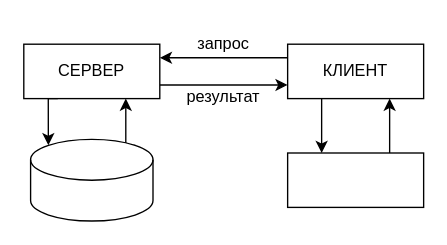
This 447x245 diagram has some shape labels left out. Each missing label, with the centre of its shape:
"БД" goes at (x=91, y=179).
"ПОЛЬЗОВАТЕЛЬ" goes at (x=355, y=179).
